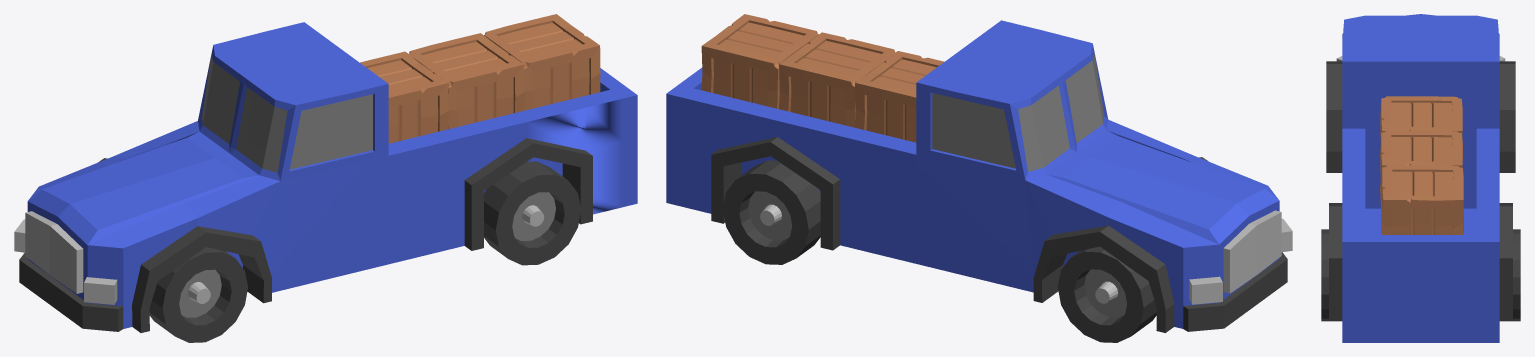
Rendered from PickupWithLoad.fbx.
3 renders of one model, left to right at view 1: azimuth 30°, elevation 25°; view 2: azimuth 150°, elevation 25°; view 3: azimuth 270°, elevation 25°, orthographic. The views are drawn at different scales.
Visible parts, largest first — view 1: pickup.001_Cube.006, load_pickup.001_Cube.007; view 2: pickup.001_Cube.006, load_pickup.001_Cube.007; view 3: pickup.001_Cube.006, load_pickup.001_Cube.007.
Part boxes in pixels (x1,y1,x2,y2): pickup.001_Cube.006: (14,22,637,342); load_pickup.001_Cube.007: (360,14,600,143); pickup.001_Cube.006: (666,20,1292,342); load_pickup.001_Cube.007: (701,14,944,142); pickup.001_Cube.006: (1321,14,1520,342); load_pickup.001_Cube.007: (1380,96,1463,234).
Size of the model in its own units: 657 by 238 by 223.
